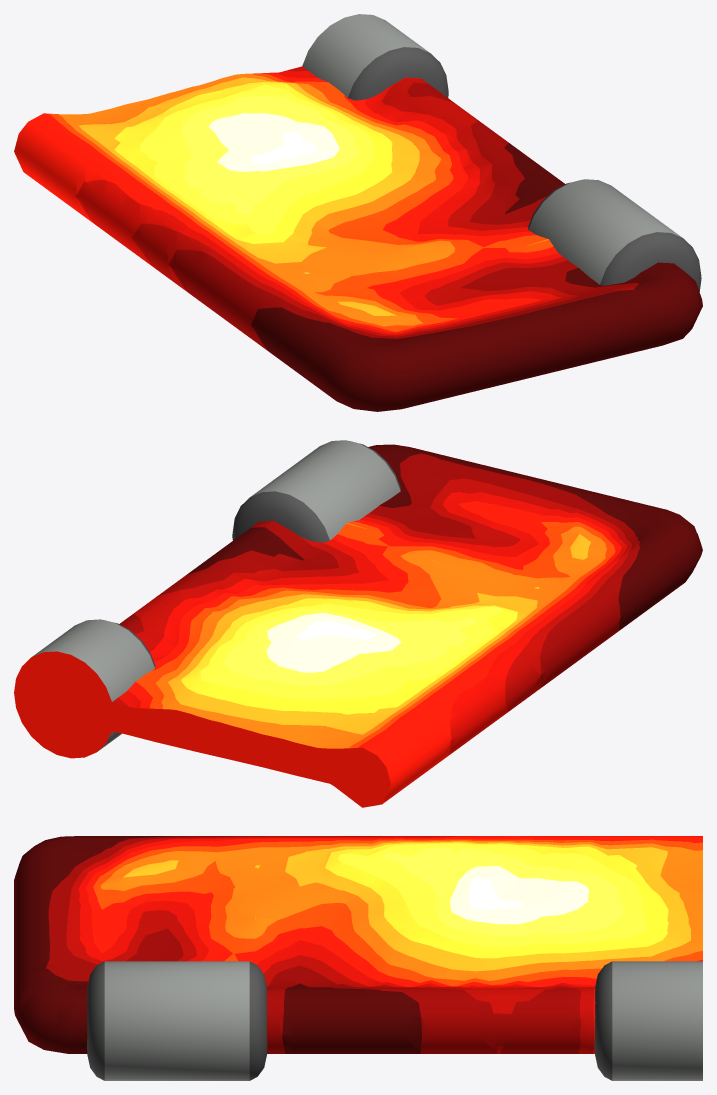
Rendered from fire_flap_39.glb.
The picture shows the model from 3 angles, top to bottom: view 1: azimuth 30°, elevation 25°; view 2: azimuth 150°, elevation 25°; view 3: azimuth 270°, elevation 25°; orthographic projection. The views are drawn at different scales.
Parts seen in each view (by area): view 1: flap.001, knuckle2.001, knuckle1.001; view 2: flap.001, knuckle1.001, knuckle2.001; view 3: flap.001, knuckle2.001, knuckle1.001.
Boxes of the visible parts, x1=… form: flap.001: x1=14, y1=66, x2=702, y2=411; knuckle2.001: x1=528, y1=179, x2=701, y2=291; knuckle1.001: x1=302, y1=14, x2=448, y2=100; flap.001: x1=35, y1=444, x2=702, y2=807; knuckle1.001: x1=14, y1=619, x2=155, y2=758; knuckle2.001: x1=232, y1=440, x2=400, y2=542; flap.001: x1=14, y1=836, x2=702, y2=1053; knuckle2.001: x1=87, y1=961, x2=267, y2=1080; knuckle1.001: x1=594, y1=961, x2=702, y2=1080.
Bounding box in the file's own units: 12.45 × 3.27 × 19.
